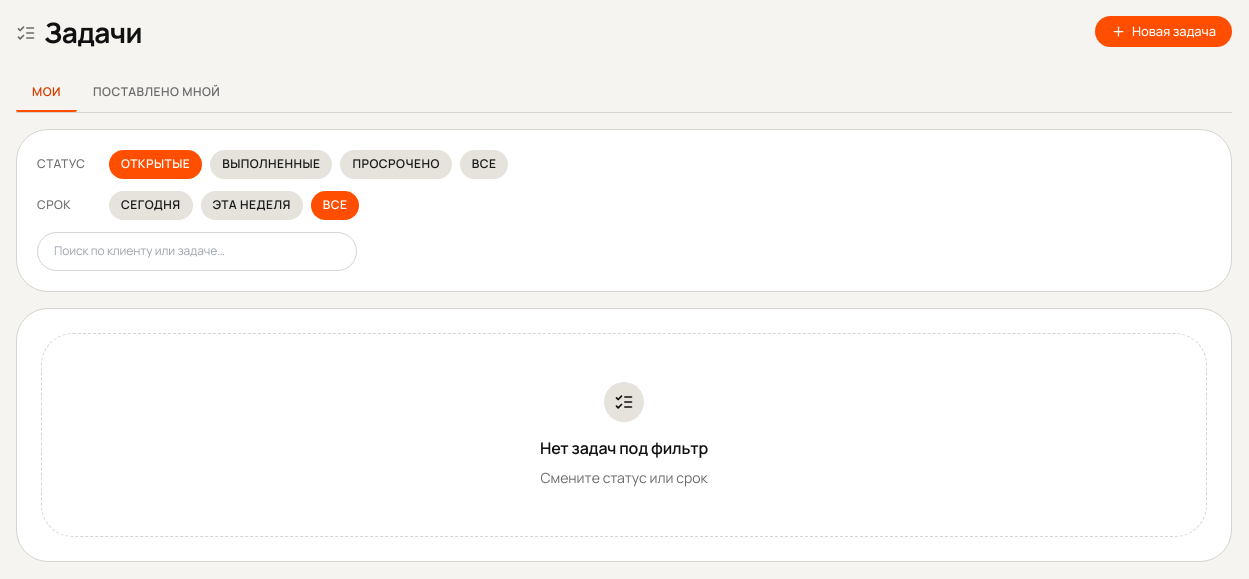
Test: Задачи — поиск и срок отбираются на сервере (TASK-03) › устаревший ответ, пришедший позже, не подменяет актуальный результат
Note: Первый поиск уходит и «зависает» (ответ ещё не пришёл).
Type "первый" into the field with placeholder "Поиск по клиенту или задаче…" at [197, 251], box [37,232,357,271]
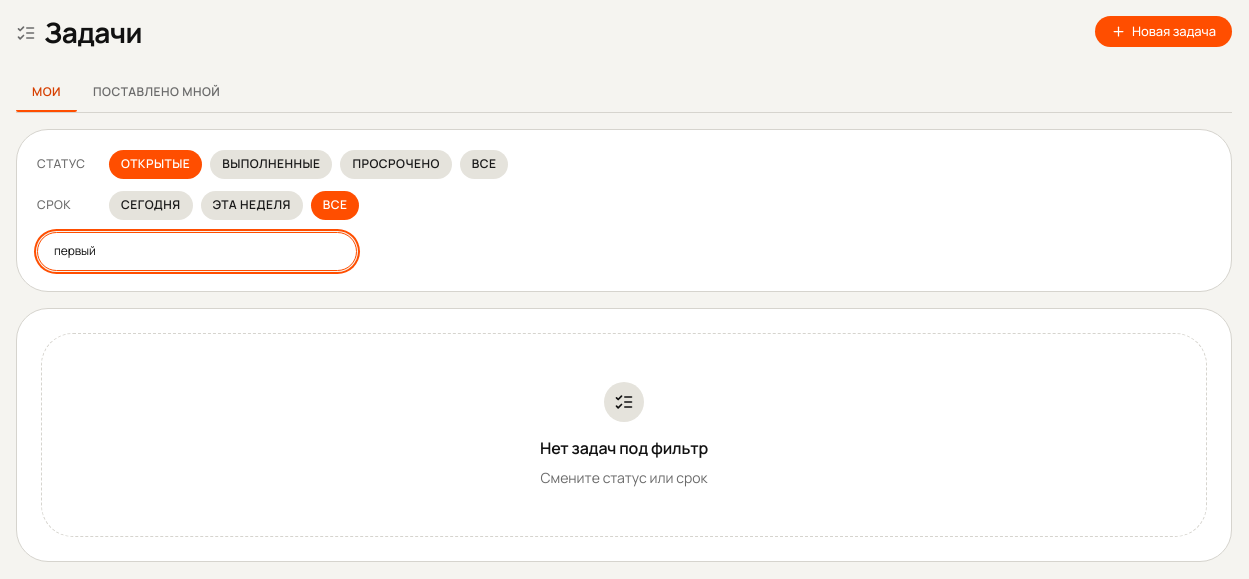
Note: Меняем запрос до того, как первый ответил — это уже другой queryKey.
Replace the text in the field with placeholder "Поиск по клиенту или задаче…" with "второй" at [197, 251], box [37,232,357,271]
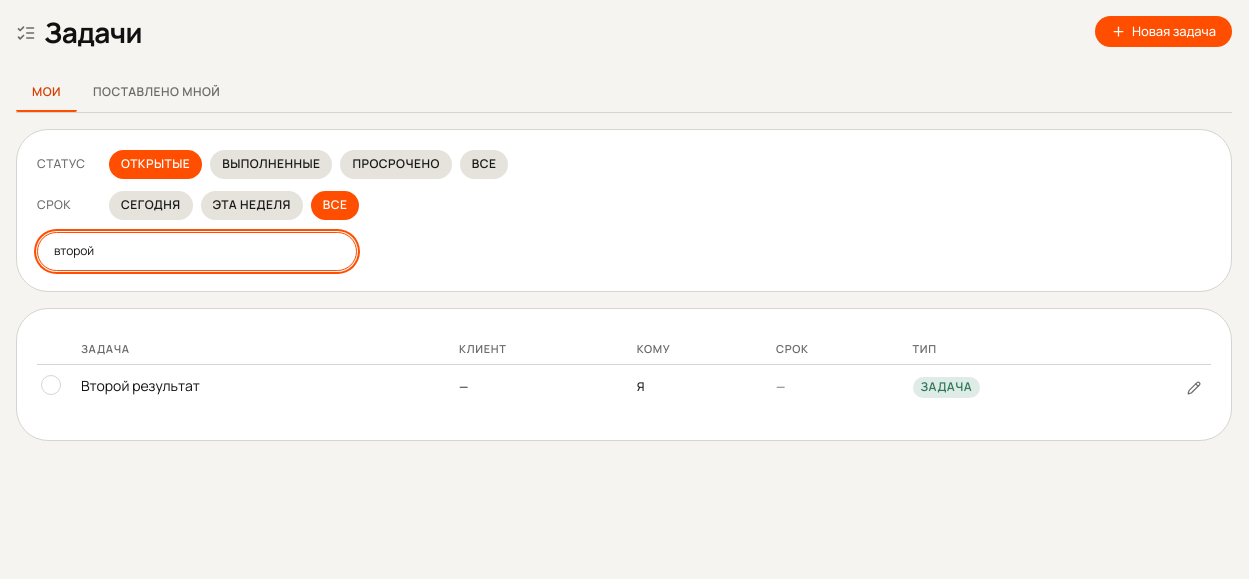
Now the text "Второй результат" is shown, box [81,376,200,395]
